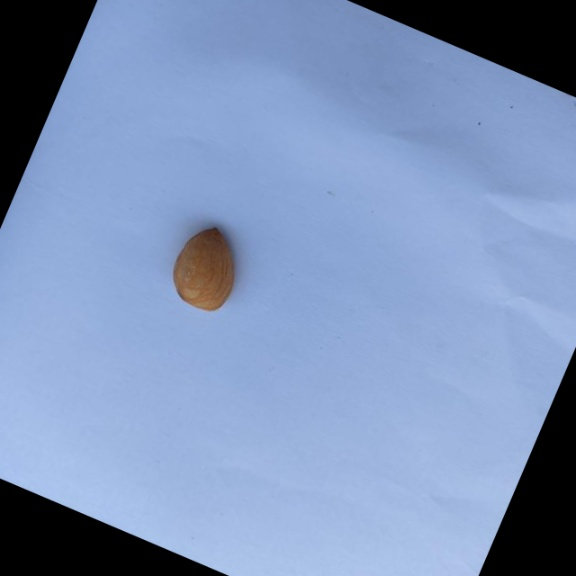grade2: (159, 215, 259, 323)
